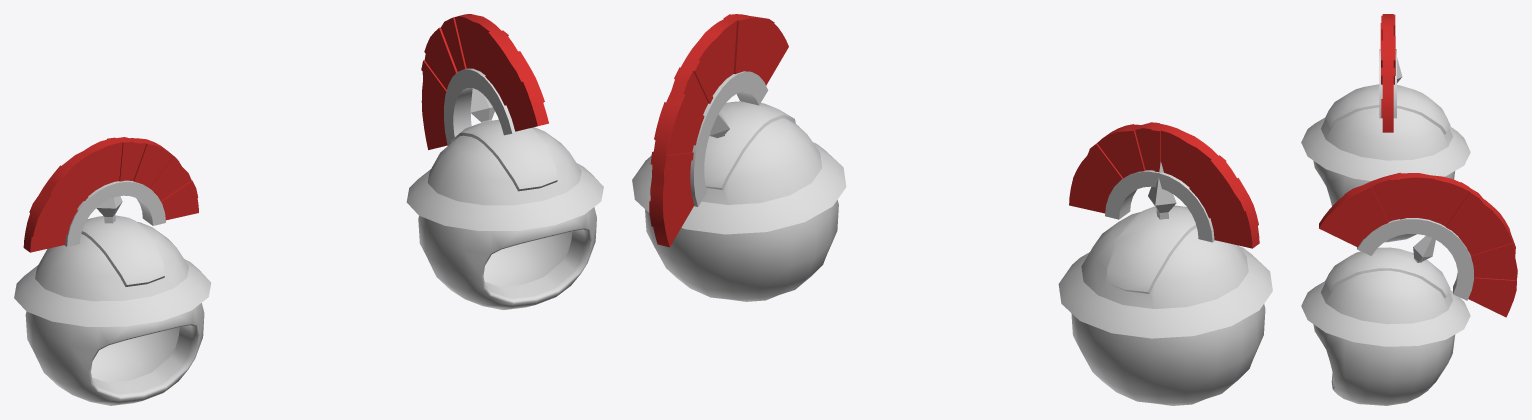
Rendered from GaulHats.fbx.
3 renders of one model, left to right at view 1: azimuth 30°, elevation 25°; view 2: azimuth 150°, elevation 25°; view 3: azimuth 270°, elevation 25°, orthographic. The views are drawn at different scales.
Parts seen in each view (by area): view 1: Centurions, Legionnaire; view 2: Legionnaire, Centurions; view 3: Centurions, Legionnaire.
Part boxes in pixels (x1=…): Centurions: x1=406, y1=14, x2=603, y2=309; Legionnaire: x1=14, y1=137, x2=211, y2=405; Legionnaire: x1=1058, y1=122, x2=1272, y2=405; Centurions: x1=632, y1=14, x2=846, y2=301; Centurions: x1=1301, y1=172, x2=1517, y2=405; Legionnaire: x1=1301, y1=14, x2=1470, y2=242.
Bounding box in the file's own units: 288 × 126 × 112.
